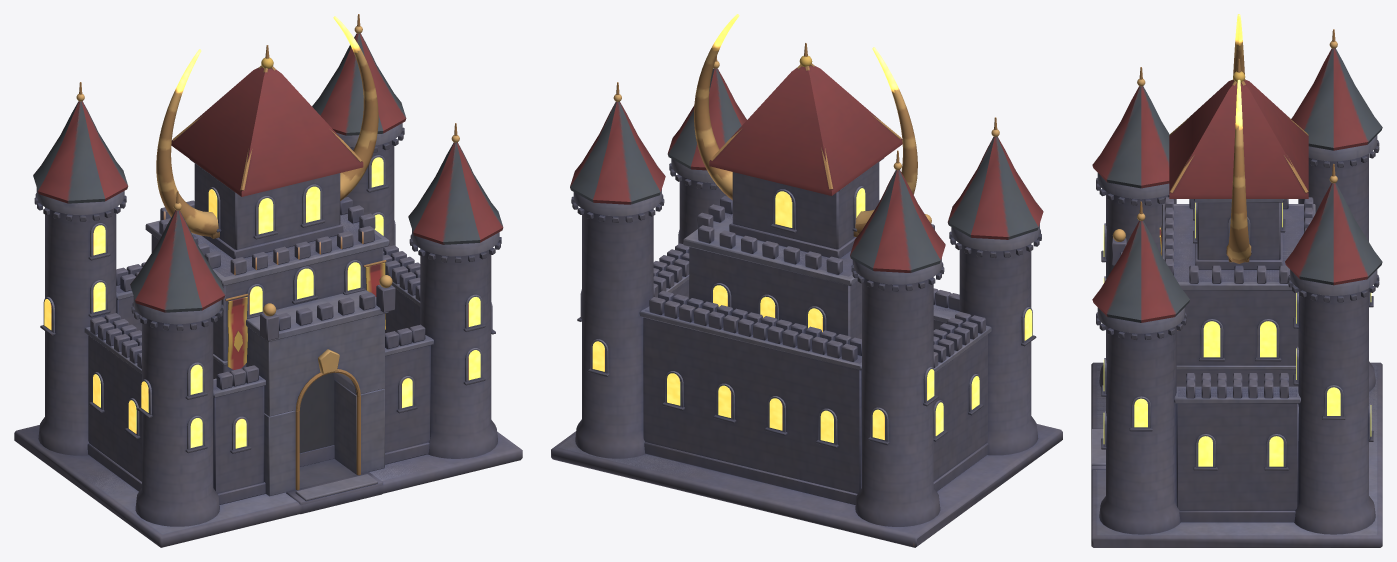
The model's file is EF_A01_LavaFortress.fbx.
The picture shows the model from 3 angles, left to right: view 1: azimuth 30°, elevation 25°; view 2: azimuth 150°, elevation 25°; view 3: azimuth 270°, elevation 25°; orthographic projection.
Parts seen in each view (by area): view 1: Keep_LOD0, Tower_01_LOD0, Tower_03_LOD0, Tower_02_LOD0, Roof_LOD0, Wall_Base_LOD0, Wall_L_LOD0, Tower_04_LOD0, Wall_Front_L_LOD0, Wall_Front_R_LOD0, Horn_L_LOD0, Wall_R_LOD0 (+3 smaller); view 2: Wall_Back_LOD0, Tower_03_LOD0, Tower_04_LOD0, Keep_LOD0, Tower_01_LOD0, Roof_LOD0, Wall_Base_LOD0, Wall_L_LOD0, Tower_02_LOD0, Horn_R_LOD0, Horn_L_LOD0, Wall_R_LOD0 (+1 smaller); view 3: Tower_04_LOD0, Keep_LOD0, Tower_02_LOD0, Wall_R_LOD0, Roof_LOD0, Wall_Base_LOD0, Tower_03_LOD0, Tower_01_LOD0, Horn_R_LOD0, Horn_L_LOD0.
Part boxes in pixels (<box>): Keep_LOD0: <box>145,159,395,496</box>; Tower_01_LOD0: <box>130,191,225,526</box>; Tower_03_LOD0: <box>33,82,128,455</box>; Tower_02_LOD0: <box>408,123,503,458</box>; Roof_LOD0: <box>171,45,363,196</box>; Wall_Base_LOD0: <box>14,425,522,547</box>; Wall_L_LOD0: <box>84,313,141,491</box>; Tower_04_LOD0: <box>312,14,406,247</box>; Wall_Front_L_LOD0: <box>213,365,265,504</box>; Wall_Front_R_LOD0: <box>384,324,433,464</box>; Horn_L_LOD0: <box>156,49,219,238</box>; Wall_R_LOD0: <box>383,245,420,333</box>; Wall_Back_LOD0: <box>639,290,861,504</box>; Tower_03_LOD0: <box>850,150,945,526</box>; Tower_04_LOD0: <box>570,82,665,458</box>; Keep_LOD0: <box>683,158,934,339</box>; Tower_01_LOD0: <box>947,117,1043,455</box>; Roof_LOD0: <box>709,43,902,195</box>; Wall_Base_LOD0: <box>551,424,1062,547</box>; Wall_L_LOD0: <box>933,311,991,491</box>; Tower_02_LOD0: <box>667,56,746,243</box>; Horn_R_LOD0: <box>694,14,739,200</box>; Horn_L_LOD0: <box>853,47,917,237</box>; Wall_R_LOD0: <box>653,243,689,299</box>; Tower_04_LOD0: <box>1285,164,1382,534</box>; Keep_LOD0: <box>1112,197,1315,386</box>; Tower_02_LOD0: <box>1092,201,1189,534</box>; Wall_R_LOD0: <box>1174,373,1300,522</box>; Roof_LOD0: <box>1169,59,1308,198</box>; Wall_Base_LOD0: <box>1091,362,1382,547</box>; Tower_03_LOD0: <box>1291,29,1382,391</box>; Tower_01_LOD0: <box>1092,67,1176,386</box>; Horn_R_LOD0: <box>1226,79,1251,263</box>; Horn_L_LOD0: <box>1233,14,1244,74</box>.
Size of what is drawn, in the model's own units: 20 by 21.94 by 14.
